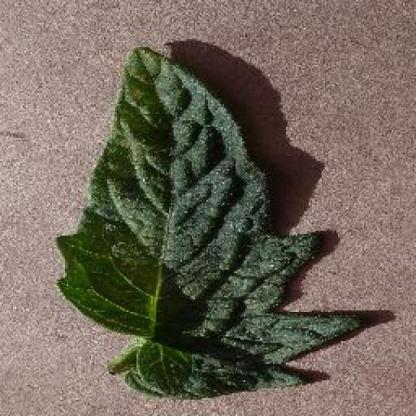Tomato_Spider_Mites: (58, 47, 366, 360)
